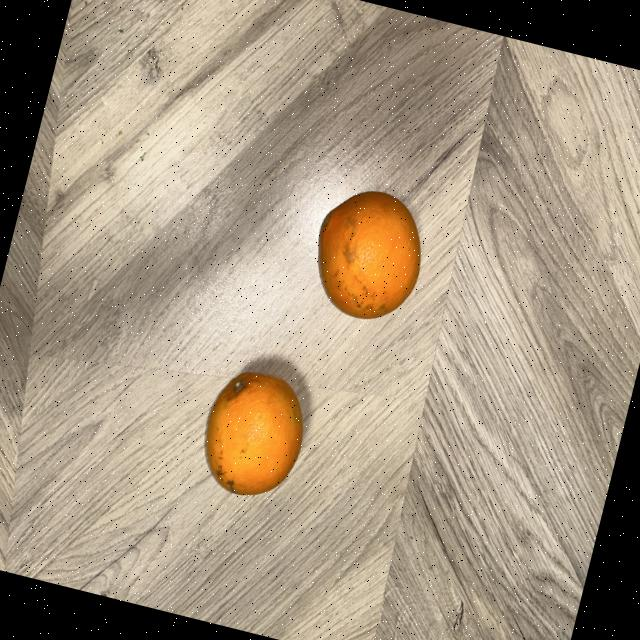orange: (317, 190, 419, 319), (204, 372, 302, 495)
